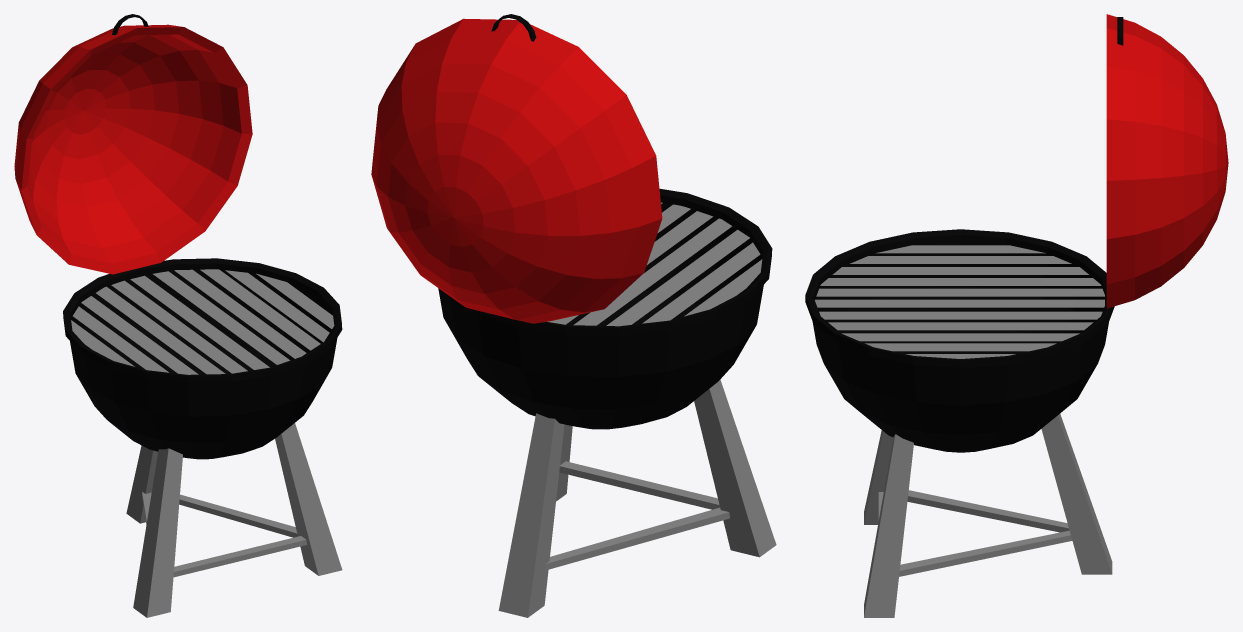
File: BBQ.fbx
The picture shows the model from 3 angles, left to right: view 1: azimuth 30°, elevation 25°; view 2: azimuth 150°, elevation 25°; view 3: azimuth 270°, elevation 25°; orthographic projection. The views are drawn at different scales.
Parts seen in each view (by area): view 1: Circle; view 2: Circle; view 3: Circle.
Part boxes in pixels (x1,y1,x2,y2): Circle: (14,14,342,617); Circle: (371,14,776,617); Circle: (805,14,1228,617).
Bounding box in the file's own units: 80.82 × 157 × 110.
